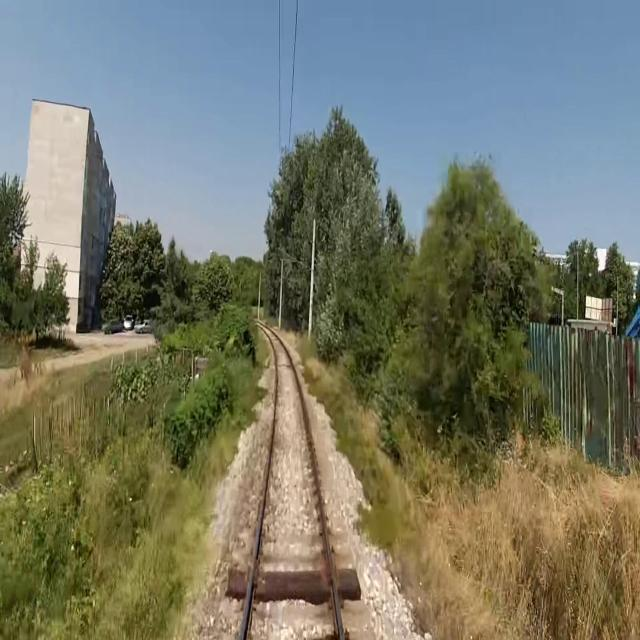rail-track: (244, 328, 339, 639)
